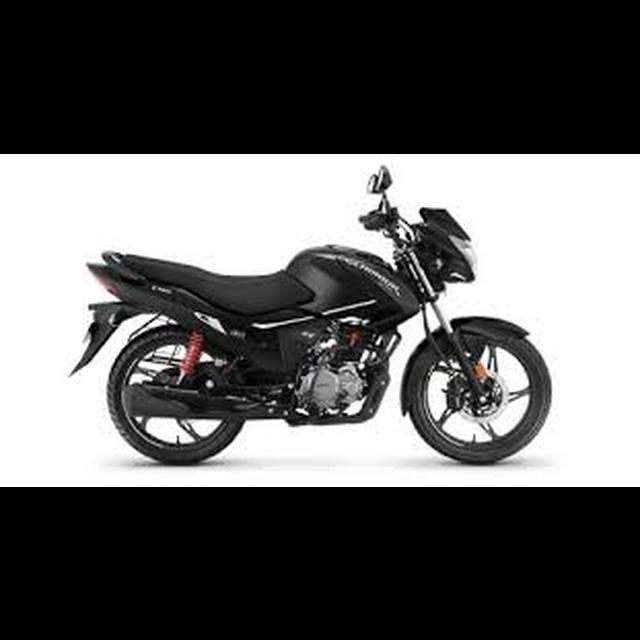motorcycle: (61, 157, 558, 472)
